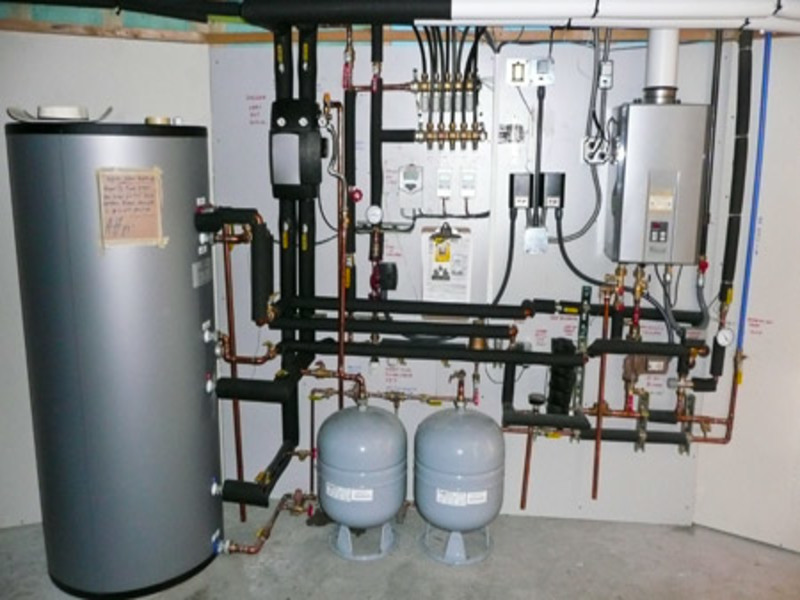valve: (542, 299, 586, 326), (711, 283, 740, 321), (730, 342, 747, 396), (277, 207, 293, 255), (525, 426, 570, 442), (297, 217, 312, 262), (409, 390, 443, 409)
